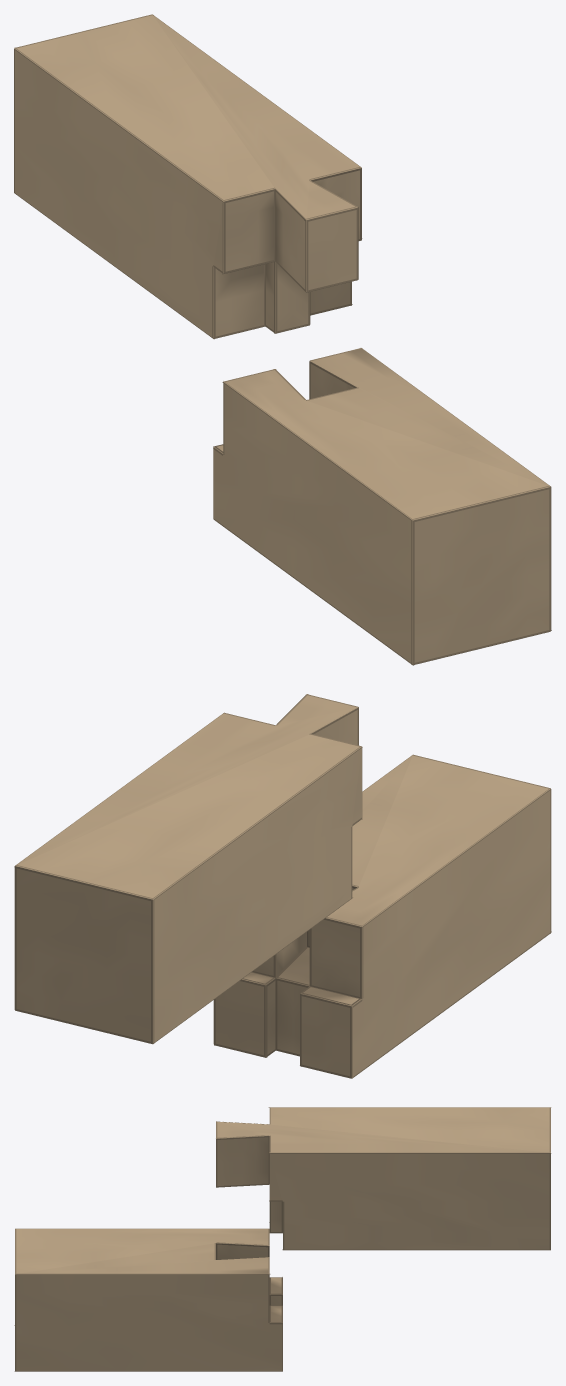
Rendered from koshikake-ari-tsugi.glb.
The picture shows the model from 3 angles, top to bottom: view 1: azimuth 30°, elevation 25°; view 2: azimuth 150°, elevation 25°; view 3: azimuth 270°, elevation 25°; orthographic projection. The views are drawn at different scales.
Visible parts, largest first — view 1: part-a, part-b; view 2: part-a, part-b; view 3: part-a, part-b.
Boxes of the visible parts, x1,y1,x2,y2 form: part-a: (14, 14, 362, 339); part-b: (213, 348, 551, 665); part-a: (14, 694, 362, 1044); part-b: (213, 754, 551, 1078); part-a: (216, 1107, 551, 1250); part-b: (14, 1228, 282, 1371).
Bounding box in the file's own units: 0.1208 × 0.2708 × 0.6024.
